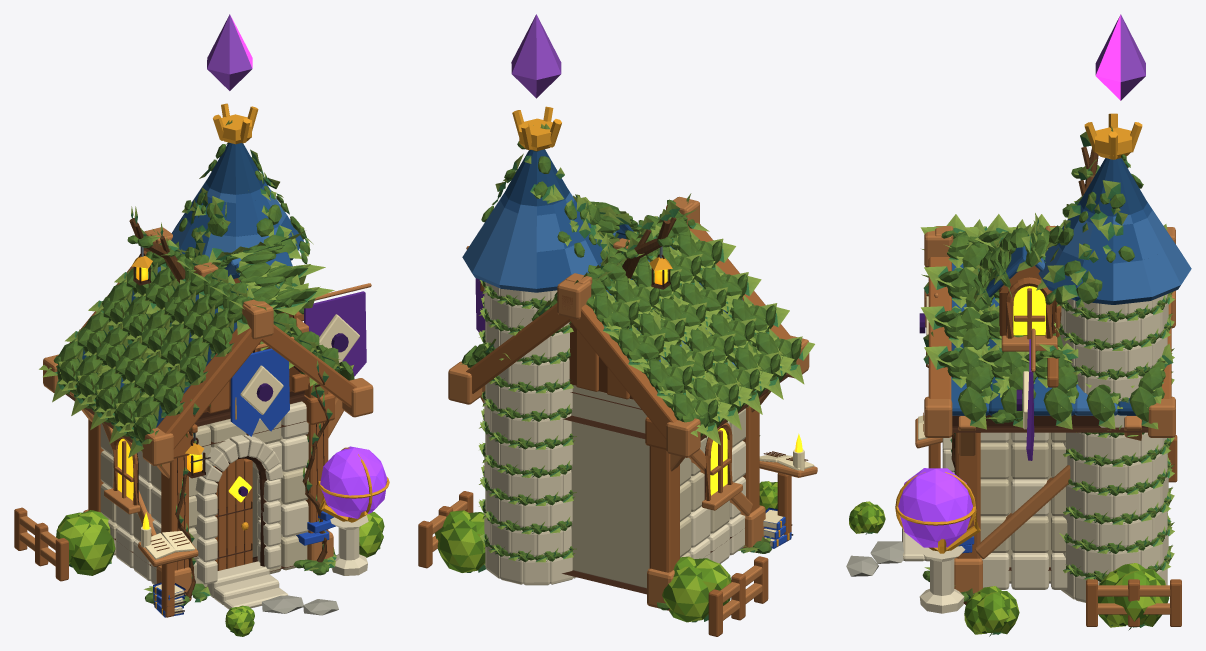
File: magic_academy.glb
The picture shows the model from 3 angles, left to right: view 1: azimuth 30°, elevation 25°; view 2: azimuth 150°, elevation 25°; view 3: azimuth 270°, elevation 25°; orthographic projection. The views are drawn at different scales.
Visible parts, largest first — view 1: Runtime surface 024, Runtime surface 004, Runtime surface 010, Runtime surface 007, Runtime surface 023, Runtime surface 019, Runtime surface 039, Runtime surface 002, Runtime surface 013, Runtime surface 001, Runtime surface 016, Runtime surface 038 (+16 smaller); view 2: Runtime surface 024, Runtime surface 010, Runtime surface 004, Runtime surface 019, Runtime surface 023, Runtime surface 007, Runtime surface 017, Runtime surface 032, Runtime surface 016, Runtime surface 022, Runtime surface 009, Runtime surface 031 (+11 smaller); view 3: Runtime surface 010, Runtime surface 024, Runtime surface 007, Runtime surface 023, Runtime surface 004, Runtime surface 019, Runtime surface 017, Runtime surface 016, Runtime surface 002, Runtime surface 039, Runtime surface 025, Runtime surface 022 (+15 smaller).
Boxes of the visible parts, x1,y1,x2,y2 form: Runtime surface 024: [53, 234, 354, 442]; Runtime surface 004: [14, 250, 356, 617]; Runtime surface 010: [116, 401, 368, 609]; Runtime surface 007: [19, 227, 373, 601]; Runtime surface 023: [39, 229, 380, 631]; Runtime surface 019: [100, 401, 308, 587]; Runtime surface 039: [95, 144, 337, 605]; Runtime surface 002: [320, 446, 387, 518]; Runtime surface 013: [153, 348, 289, 616]; Runtime surface 001: [140, 314, 359, 614]; Runtime surface 016: [108, 180, 303, 393]; Runtime surface 038: [60, 120, 353, 601]; Runtime surface 024: [461, 199, 801, 562]; Runtime surface 010: [484, 282, 745, 585]; Runtime surface 004: [418, 222, 791, 636]; Runtime surface 019: [571, 385, 745, 588]; Runtime surface 023: [460, 193, 814, 621]; Runtime surface 007: [430, 196, 817, 620]; Runtime surface 017: [462, 189, 735, 366]; Runtime surface 032: [434, 481, 777, 622]; Runtime surface 016: [500, 193, 742, 361]; Runtime surface 022: [467, 212, 803, 622]; Runtime surface 009: [511, 14, 561, 98]; Runtime surface 031: [440, 481, 777, 622]; Runtime surface 010: [902, 294, 1168, 613]; Runtime surface 024: [934, 224, 1169, 581]; Runtime surface 007: [915, 226, 1175, 614]; Runtime surface 023: [867, 213, 1174, 634]; Runtime surface 004: [928, 257, 1181, 626]; Runtime surface 019: [980, 432, 1067, 583]; Runtime surface 017: [1035, 203, 1191, 415]; Runtime surface 016: [951, 202, 1152, 415]; Runtime surface 002: [898, 468, 972, 547]; Runtime surface 039: [922, 154, 1143, 601]; Runtime surface 025: [951, 158, 1147, 415]; Runtime surface 022: [857, 219, 1172, 636].
Size of the model in its own units: 4.1 by 6.91 by 3.71.
36 materials, 9 textured.
